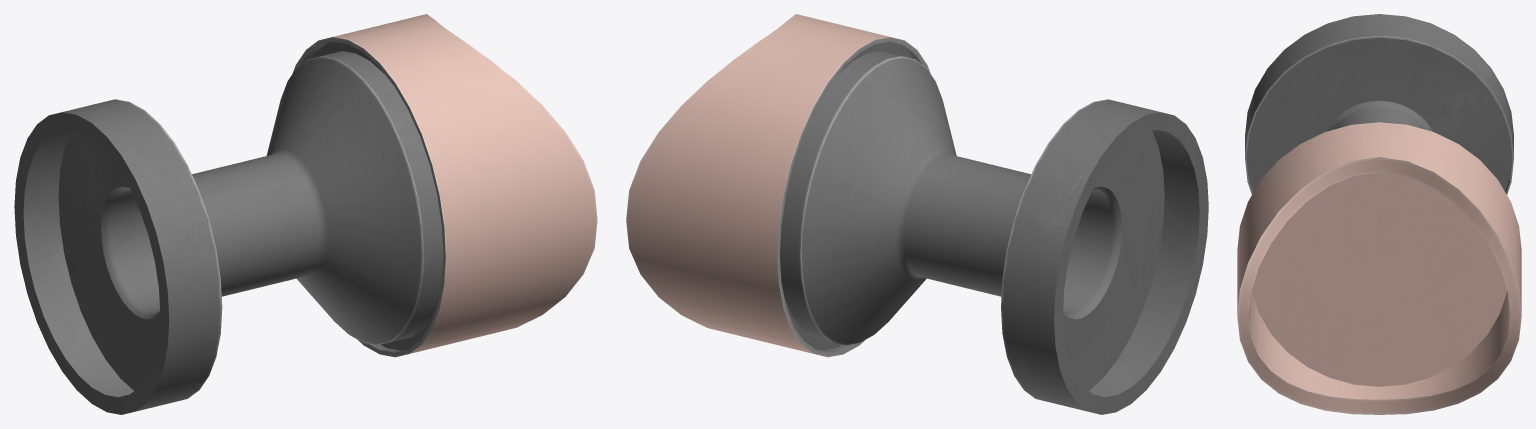
The model's file is guard_13_c_c.glb.
The picture shows the model from 3 angles, left to right: view 1: azimuth 30°, elevation 25°; view 2: azimuth 150°, elevation 25°; view 3: azimuth 270°, elevation 25°; orthographic projection. The views are drawn at different scales.
Visible parts, largest first — view 1: guard_13_c_c_lod0; view 2: guard_13_c_c_lod0; view 3: guard_13_c_c_lod0.
Part boxes in pixels (bbox=[...]): guard_13_c_c_lod0: bbox=[14, 14, 597, 414]; guard_13_c_c_lod0: bbox=[626, 14, 1208, 414]; guard_13_c_c_lod0: bbox=[1237, 14, 1521, 414].
Size of what is drawn, in the model's own units: 0.0454 by 0.0304 by 0.0304.
1 material, 1 textured.
